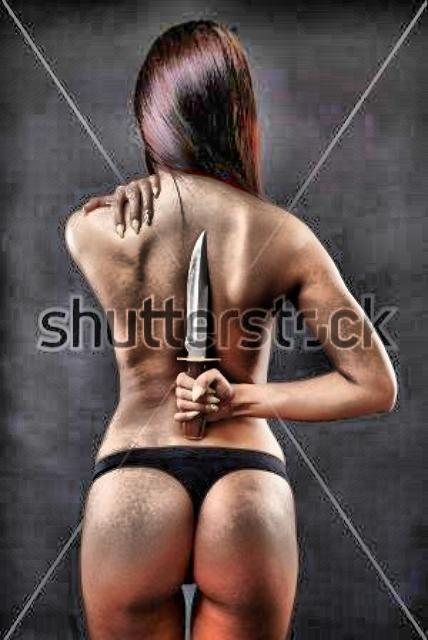knife: (171, 216, 228, 416)
